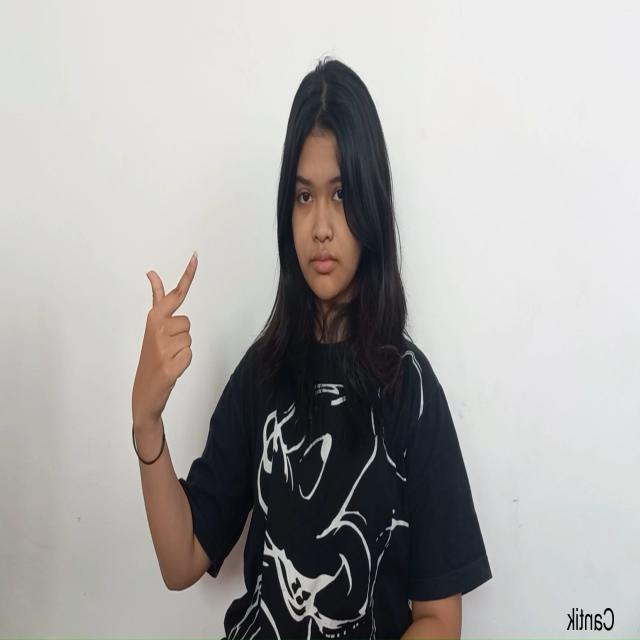Cantik -BISINDO-: (130, 249, 199, 446)
